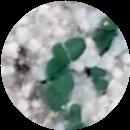Basil: (45, 76, 74, 103), (40, 55, 70, 81), (55, 37, 87, 59), (90, 66, 113, 88)
